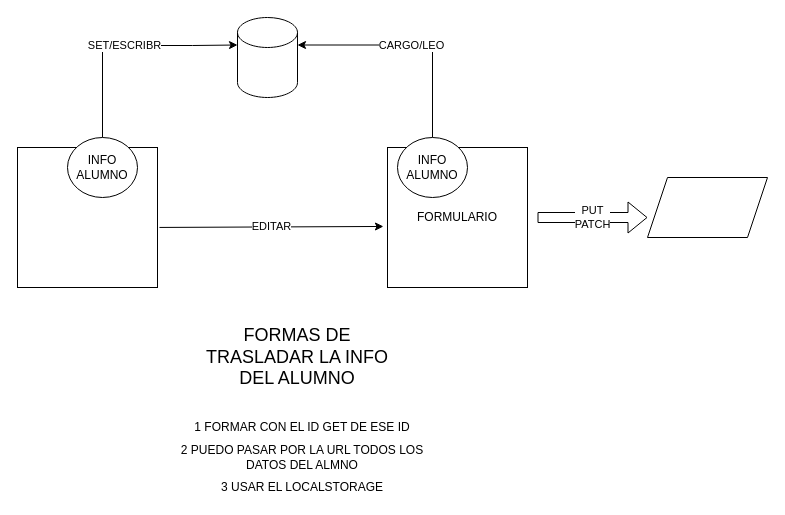
Some shapes in this 785 by 515 pixel diagram are drawn without their labels. Here are the shapes that lost their labels. From the top down, the box of each, then its label:
(16, 146, 158, 288): LISTADO
(646, 176, 768, 238): server ALUMNOS
